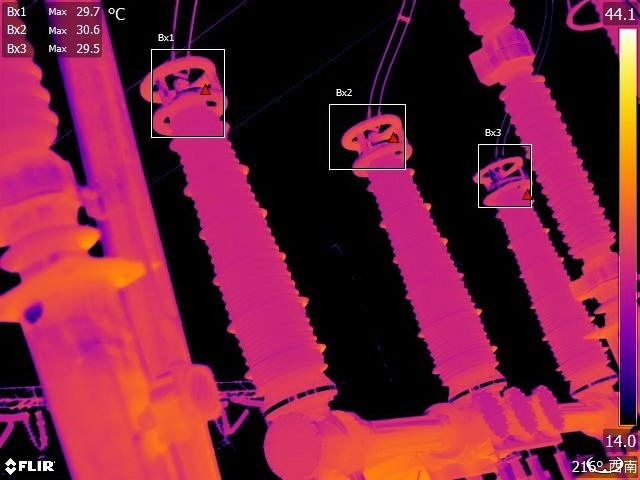lightning arrester: (446, 1, 616, 264), (1, 1, 120, 266), (565, 1, 640, 98)
tube: (135, 41, 338, 390), (338, 106, 505, 387), (471, 142, 614, 384)
